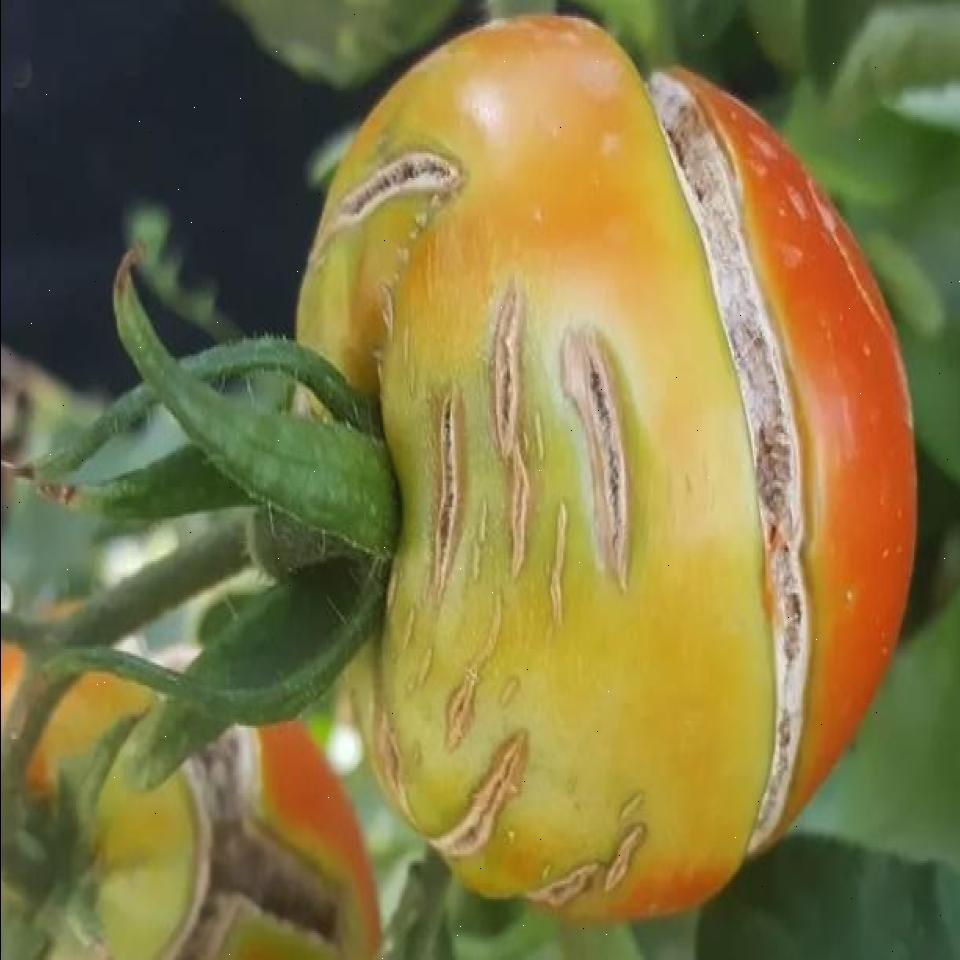Cracking: (597, 22, 864, 904), (344, 566, 682, 908), (125, 670, 362, 958), (542, 247, 635, 601), (310, 108, 466, 252), (398, 326, 466, 566)
